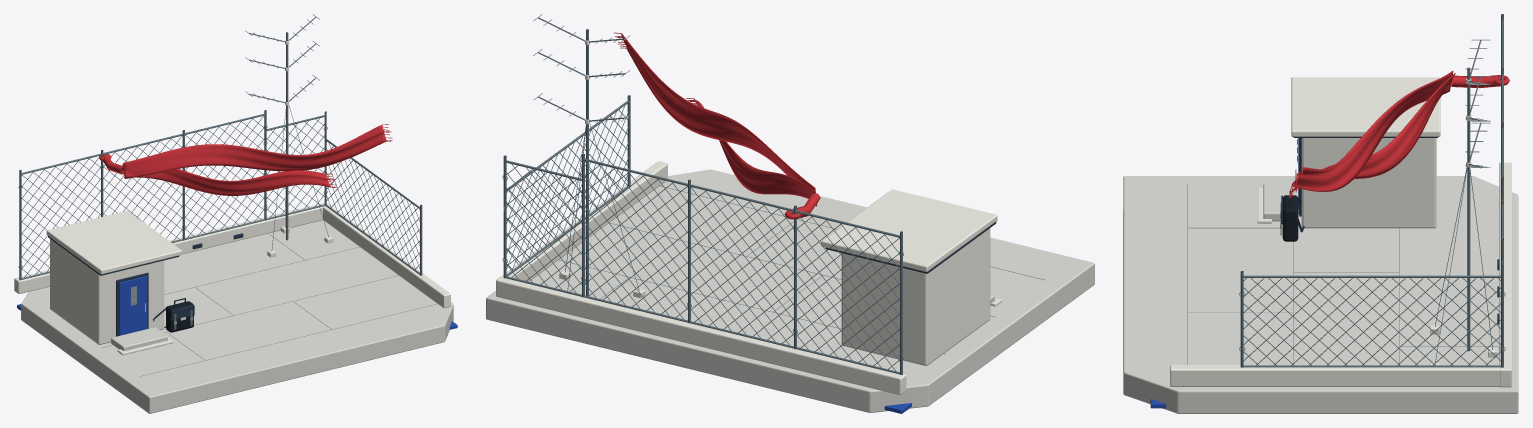
File: summer-rooftop-v7.glb
3 renders of one model, left to right at view 1: azimuth 30°, elevation 25°; view 2: azimuth 150°, elevation 25°; view 3: azimuth 270°, elevation 25°, orthographic. The views are drawn at different scales.
Visible parts, largest first — view 1: Rooftop_Concrete, Access_Structure, Rooftop_Scarf_Fabric, Diamond_Fence_Mesh, Roof_Curb, Diamond_Fence_Frame, Access_Door, Access_Threshold, Rooftop_Aerial, Concrete_Joints, School_Satchel; view 2: Rooftop_Concrete, Access_Structure, Diamond_Fence_Mesh, Roof_Curb, Rooftop_Scarf_Fabric, Diamond_Fence_Frame, Rooftop_Aerial, Concrete_Joints; view 3: Rooftop_Concrete, Access_Structure, Roof_Curb, Rooftop_Scarf_Fabric, Diamond_Fence_Mesh, Diamond_Fence_Frame, Rooftop_Aerial, Access_Threshold, Concrete_Joints, School_Satchel, Aerial_Guy_Wires, Rooftop_Scarf_Knot.
Part boxes in pixels (left/top/right/bottom): Rooftop_Concrete: left=17, top=220, right=457, bottom=413; Access_Structure: left=46, top=211, right=182, bottom=344; Rooftop_Scarf_Fabric: left=122, top=124, right=392, bottom=195; Diamond_Fence_Mesh: left=21, top=116, right=419, bottom=277; Roof_Curb: left=14, top=203, right=450, bottom=308; Diamond_Fence_Frame: left=19, top=110, right=422, bottom=280; Access_Door: left=116, top=272, right=148, bottom=336; Access_Threshold: left=111, top=327, right=173, bottom=355; Rooftop_Aerial: left=245, top=14, right=319, bottom=240; Concrete_Joints: left=62, top=233, right=436, bottom=376; School_Satchel: left=166, top=301, right=194, bottom=332; Rooftop_Concrete: left=486, top=169, right=1094, bottom=413; Access_Structure: left=821, top=189, right=997, bottom=365; Diamond_Fence_Mesh: left=506, top=104, right=899, bottom=371; Roof_Curb: left=496, top=161, right=906, bottom=394; Rooftop_Scarf_Fabric: left=614, top=32, right=817, bottom=206; Diamond_Fence_Frame: left=503, top=95, right=902, bottom=374; Rooftop_Aerial: left=533, top=14, right=630, bottom=295; Concrete_Joints: left=559, top=186, right=1045, bottom=354; Rooftop_Concrete: left=1123, top=176, right=1518, bottom=413; Access_Structure: left=1291, top=77, right=1440, bottom=228; Roof_Curb: left=1170, top=162, right=1511, bottom=387; Rooftop_Scarf_Fabric: left=1289, top=71, right=1455, bottom=197; Diamond_Fence_Mesh: left=1243, top=278, right=1500, bottom=365; Diamond_Fence_Frame: left=1240, top=14, right=1503, bottom=367; Rooftop_Aerial: left=1465, top=39, right=1490, bottom=351; Access_Threshold: left=1257, top=184, right=1298, bottom=223; Concrete_Joints: left=1187, top=184, right=1498, bottom=364; School_Satchel: left=1281, top=195, right=1298, bottom=241; Aerial_Guy_Wires: left=1435, top=167, right=1492, bottom=364; Rooftop_Scarf_Knot: left=1451, top=75, right=1509, bottom=87.
Size of the model in its own units: 15.9 by 10.74 by 12.3.
